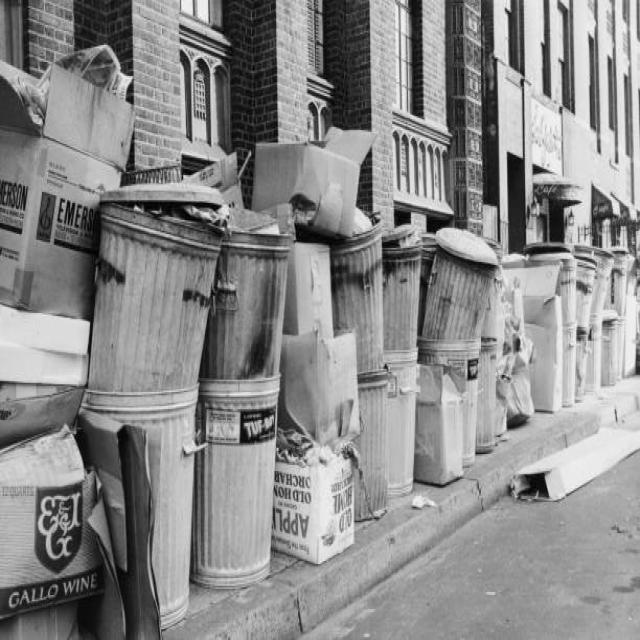cardboard: (1, 43, 105, 640), (286, 135, 358, 562), (502, 267, 566, 426), (422, 367, 466, 485)
metal: (100, 192, 230, 394), (361, 234, 419, 516), (421, 223, 512, 358), (564, 248, 640, 392)
